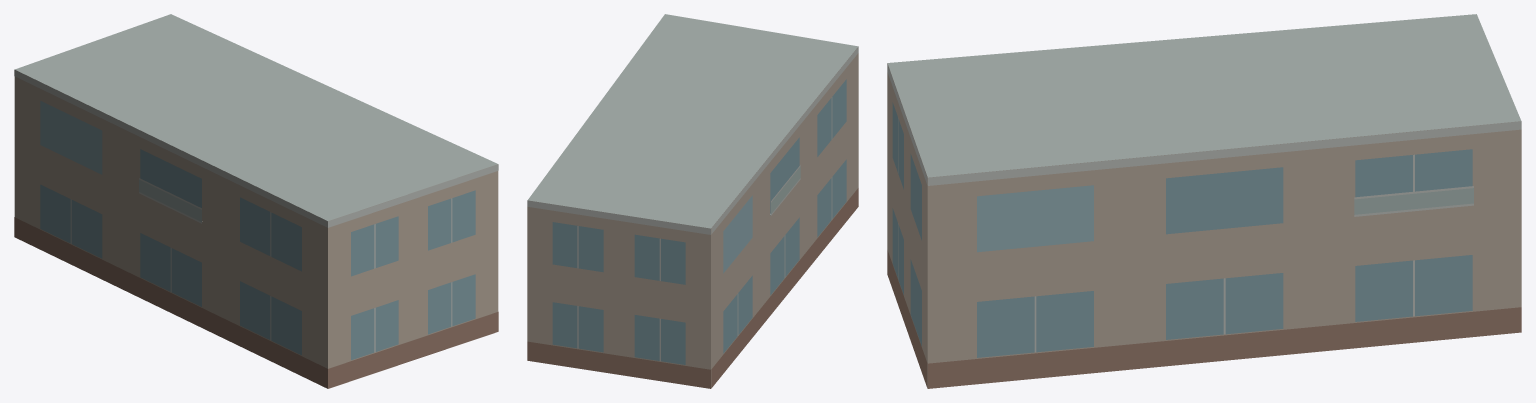
The model's file is survey-upis-32474651.glb.
3 views of the same model, side by side, from view 1: azimuth 30°, elevation 25°; view 2: azimuth 150°, elevation 25°; view 3: azimuth 270°, elevation 25° (orthographic). The views are drawn at different scales.
Parts seen in each view (by area): view 1: survey-upis-32474651.tmp; view 2: survey-upis-32474651.tmp; view 3: survey-upis-32474651.tmp.
Boxes of the visible parts, <box> form: survey-upis-32474651.tmp: <box>14,14,498,388</box>; survey-upis-32474651.tmp: <box>527,14,858,388</box>; survey-upis-32474651.tmp: <box>887,14,1521,388</box>.
Bounding box in the file's own units: 10.14 × 6.1 × 16.6.
